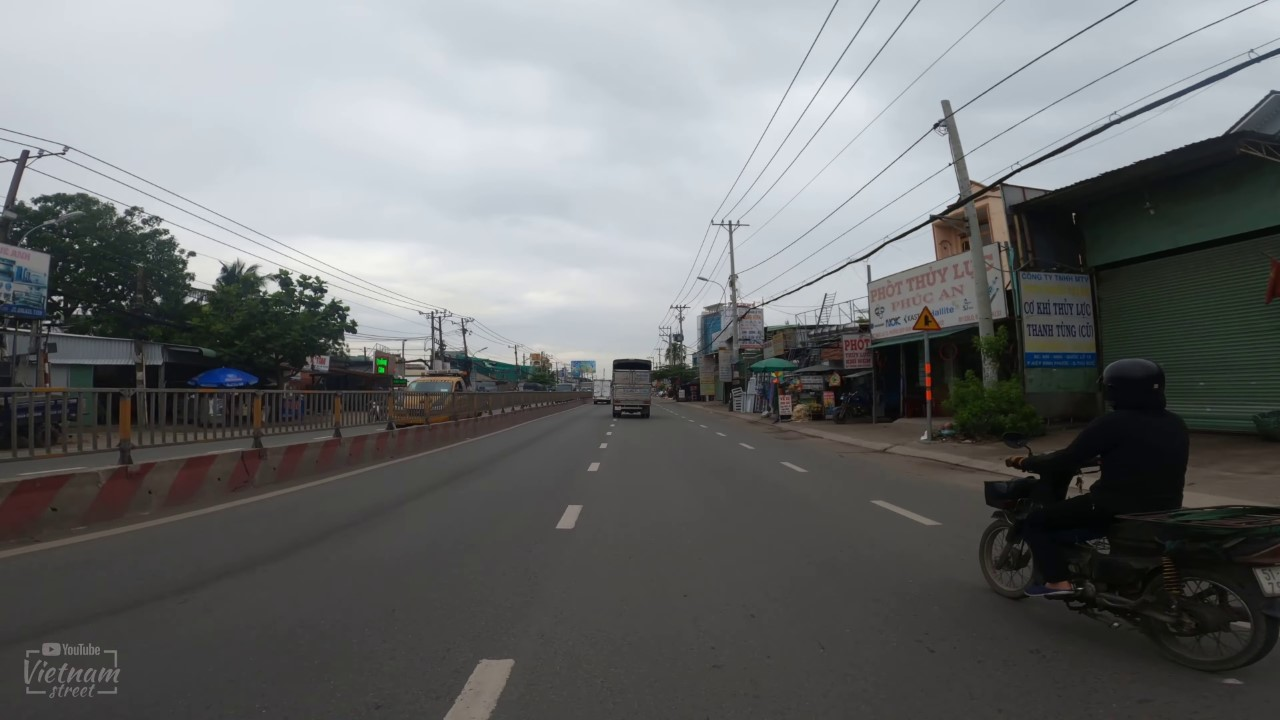giao_khong_uu_tien_phai: (910, 303, 945, 332)
